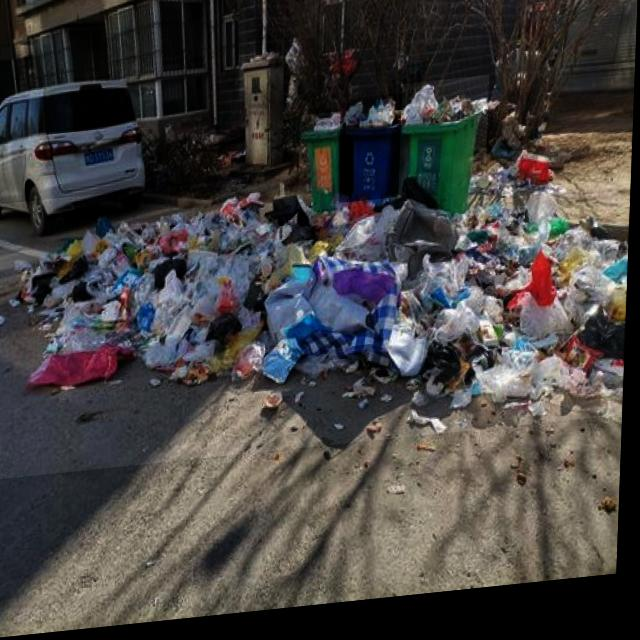garbage: (0, 153, 633, 481)
overflow: (399, 86, 490, 228), (341, 101, 410, 211), (299, 119, 342, 219)
